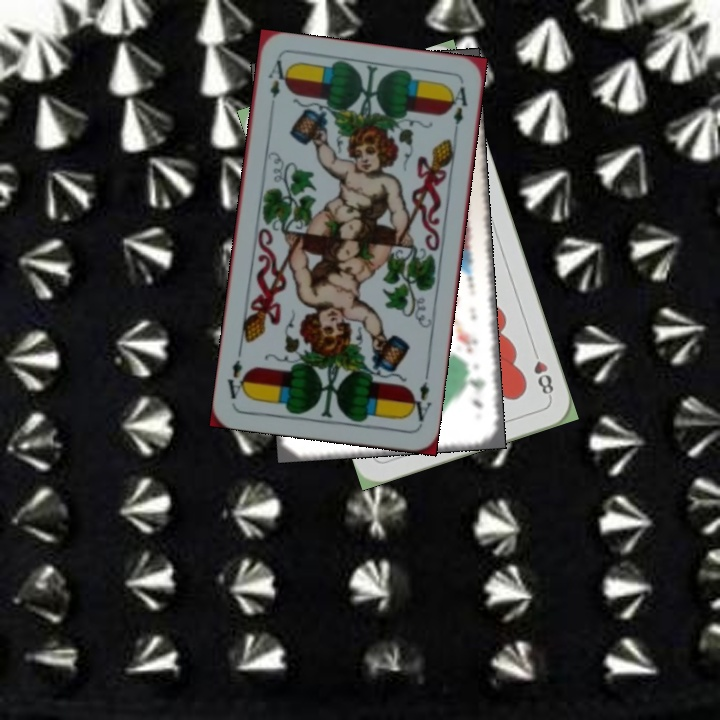EA: (405, 378, 434, 427), (263, 56, 290, 101)
GK: (465, 373, 486, 412)
H8: (528, 344, 556, 401)
